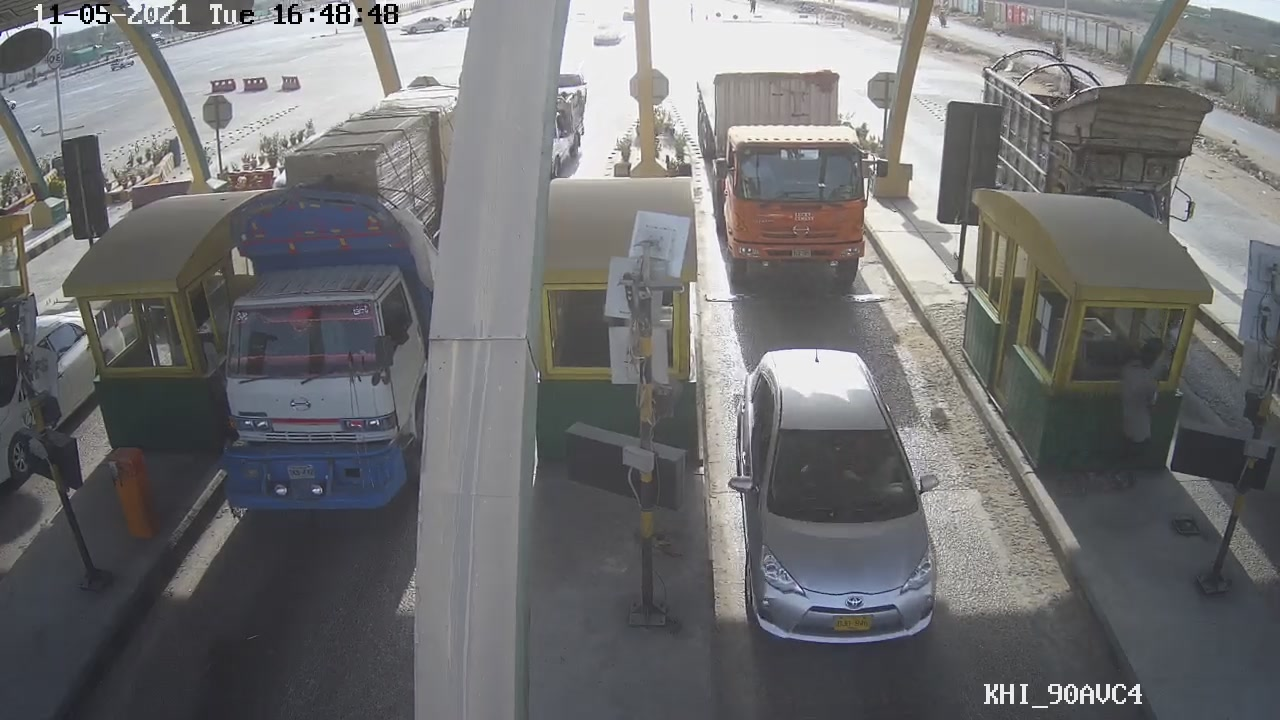F1: (721, 342, 946, 651)
F6: (691, 64, 890, 292)
